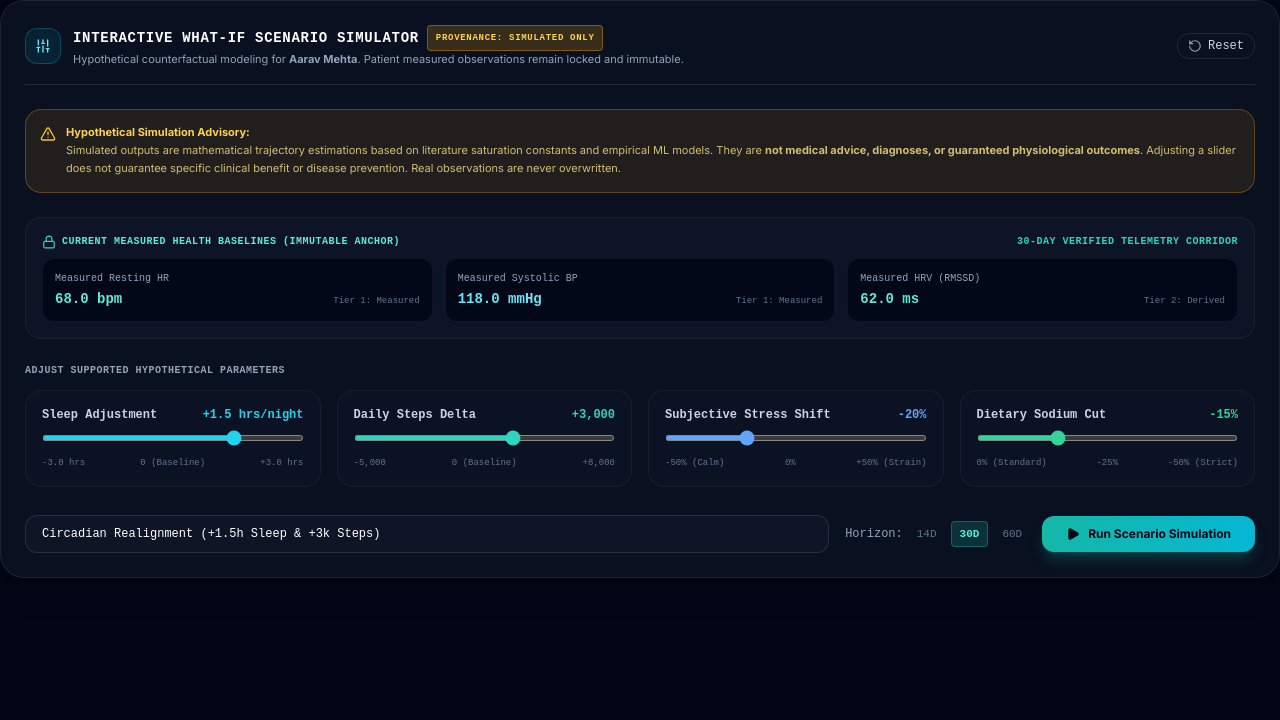
Test case: Interactive What-If Simulator Workspace (Step 8) › resets levers to baseline zero perturbation when reset button is pressed
// Adjust sleep slider
Set the slider named "Hypothetical sleep duration adjustment in hours per night" to "2.5" at point(275, 438), box [42, 435, 304, 441]
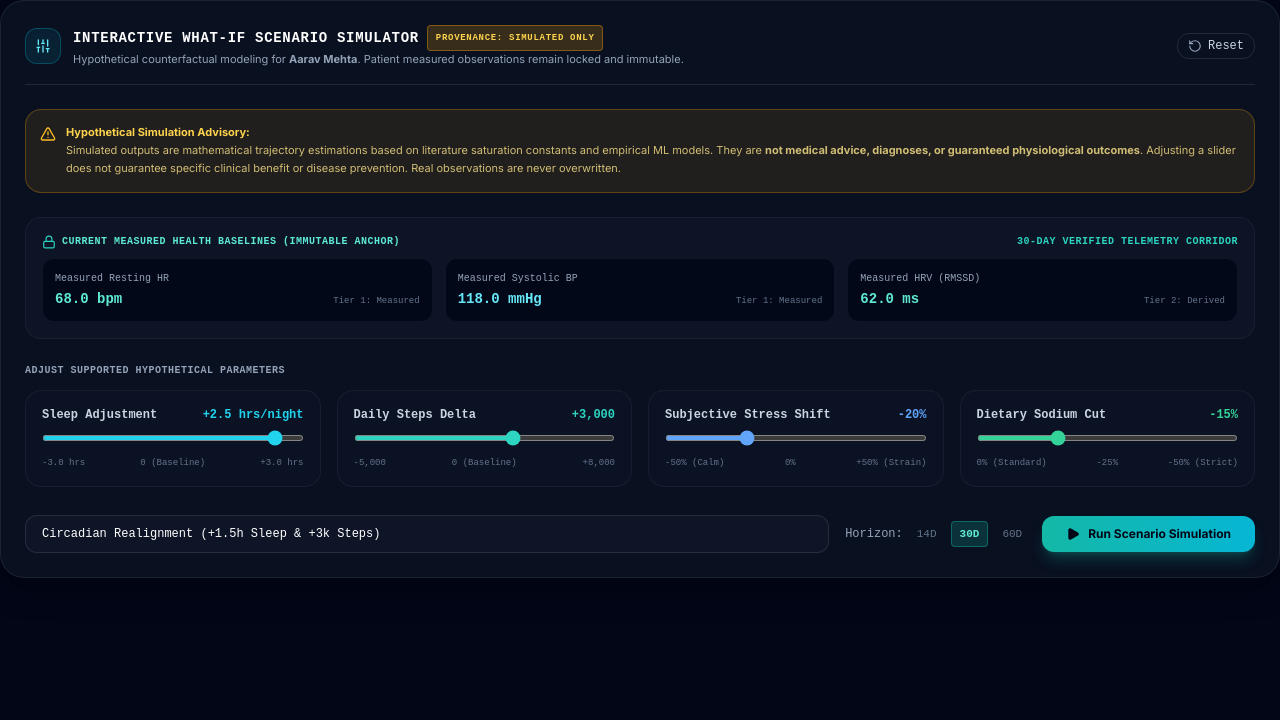
Check: the text "+2.5 hrs/night" is shown, box [203, 407, 304, 423]
// Click Reset
Click the button with aria-label "Reset simulation levers" at point(1216, 46), box [1177, 33, 1255, 59]
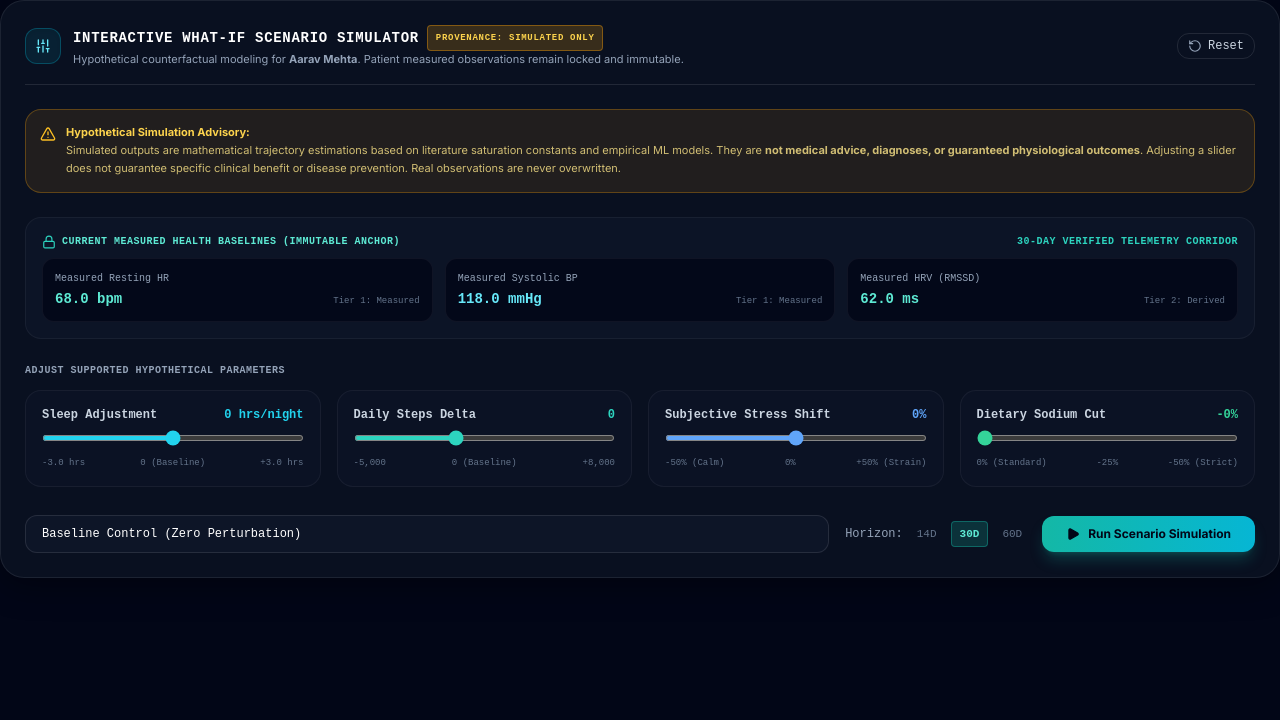
Check: the text "0 hrs/night" is shown, box [224, 407, 304, 423]
